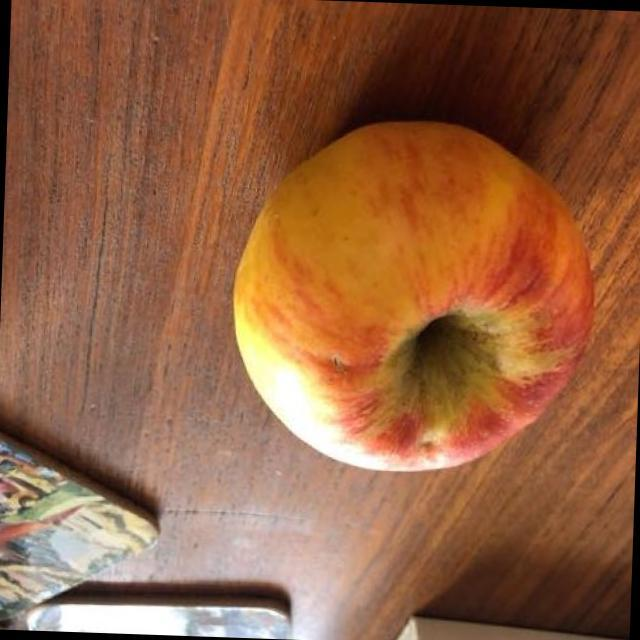Apple: (218, 92, 611, 497)
